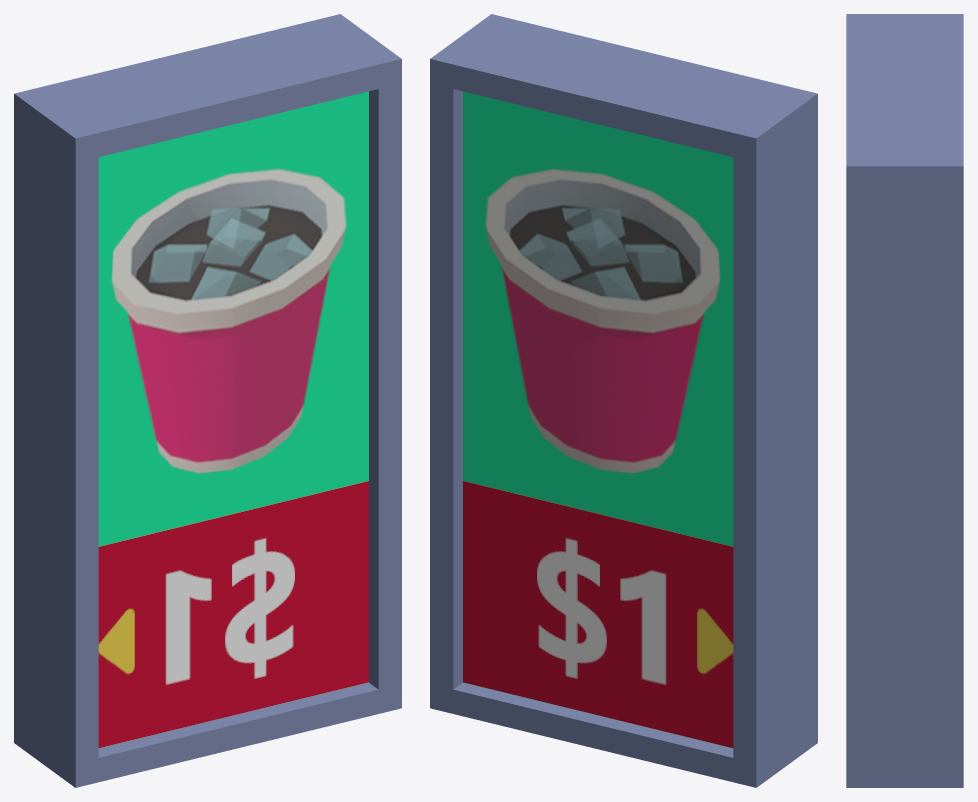
Rendered from adboard_Cola_geo.fbx.
3 views of the same model, side by side, from view 1: azimuth 30°, elevation 25°; view 2: azimuth 150°, elevation 25°; view 3: azimuth 270°, elevation 25° (orthographic). The views are drawn at different scales.
Visible parts, largest first — view 1: adboard_Cola_geo; view 2: adboard_Cola_geo; view 3: adboard_Cola_geo.
Part boxes in pixels (bbox=[...]): adboard_Cola_geo: bbox=[14, 14, 401, 787]; adboard_Cola_geo: bbox=[430, 14, 817, 787]; adboard_Cola_geo: bbox=[846, 14, 963, 787].
Size of the model in its own units: 0.7668 by 0.2497 by 1.46.
